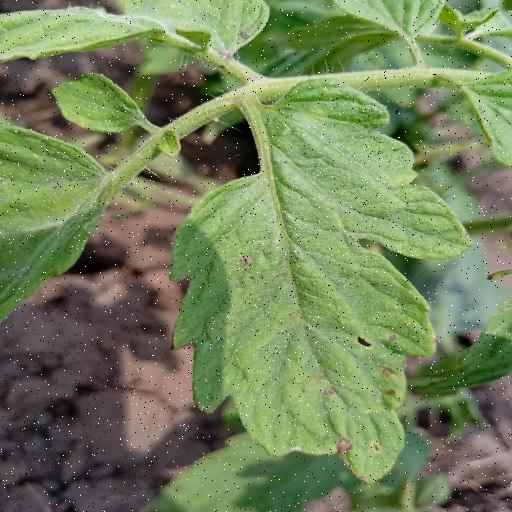Tomato_Mildiou: (166, 79, 460, 495)
